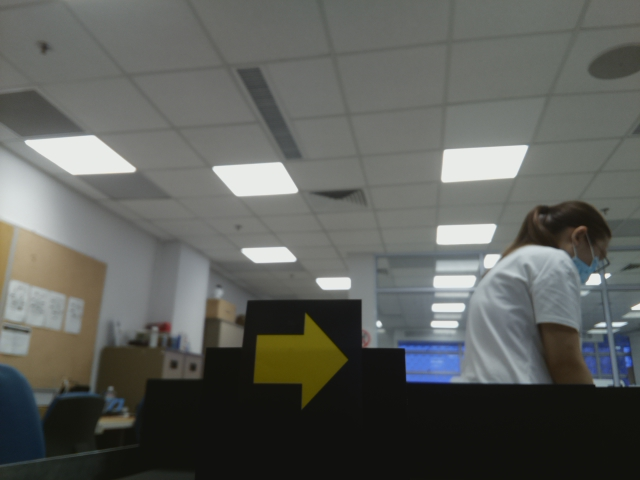right: (252, 310, 350, 415)
